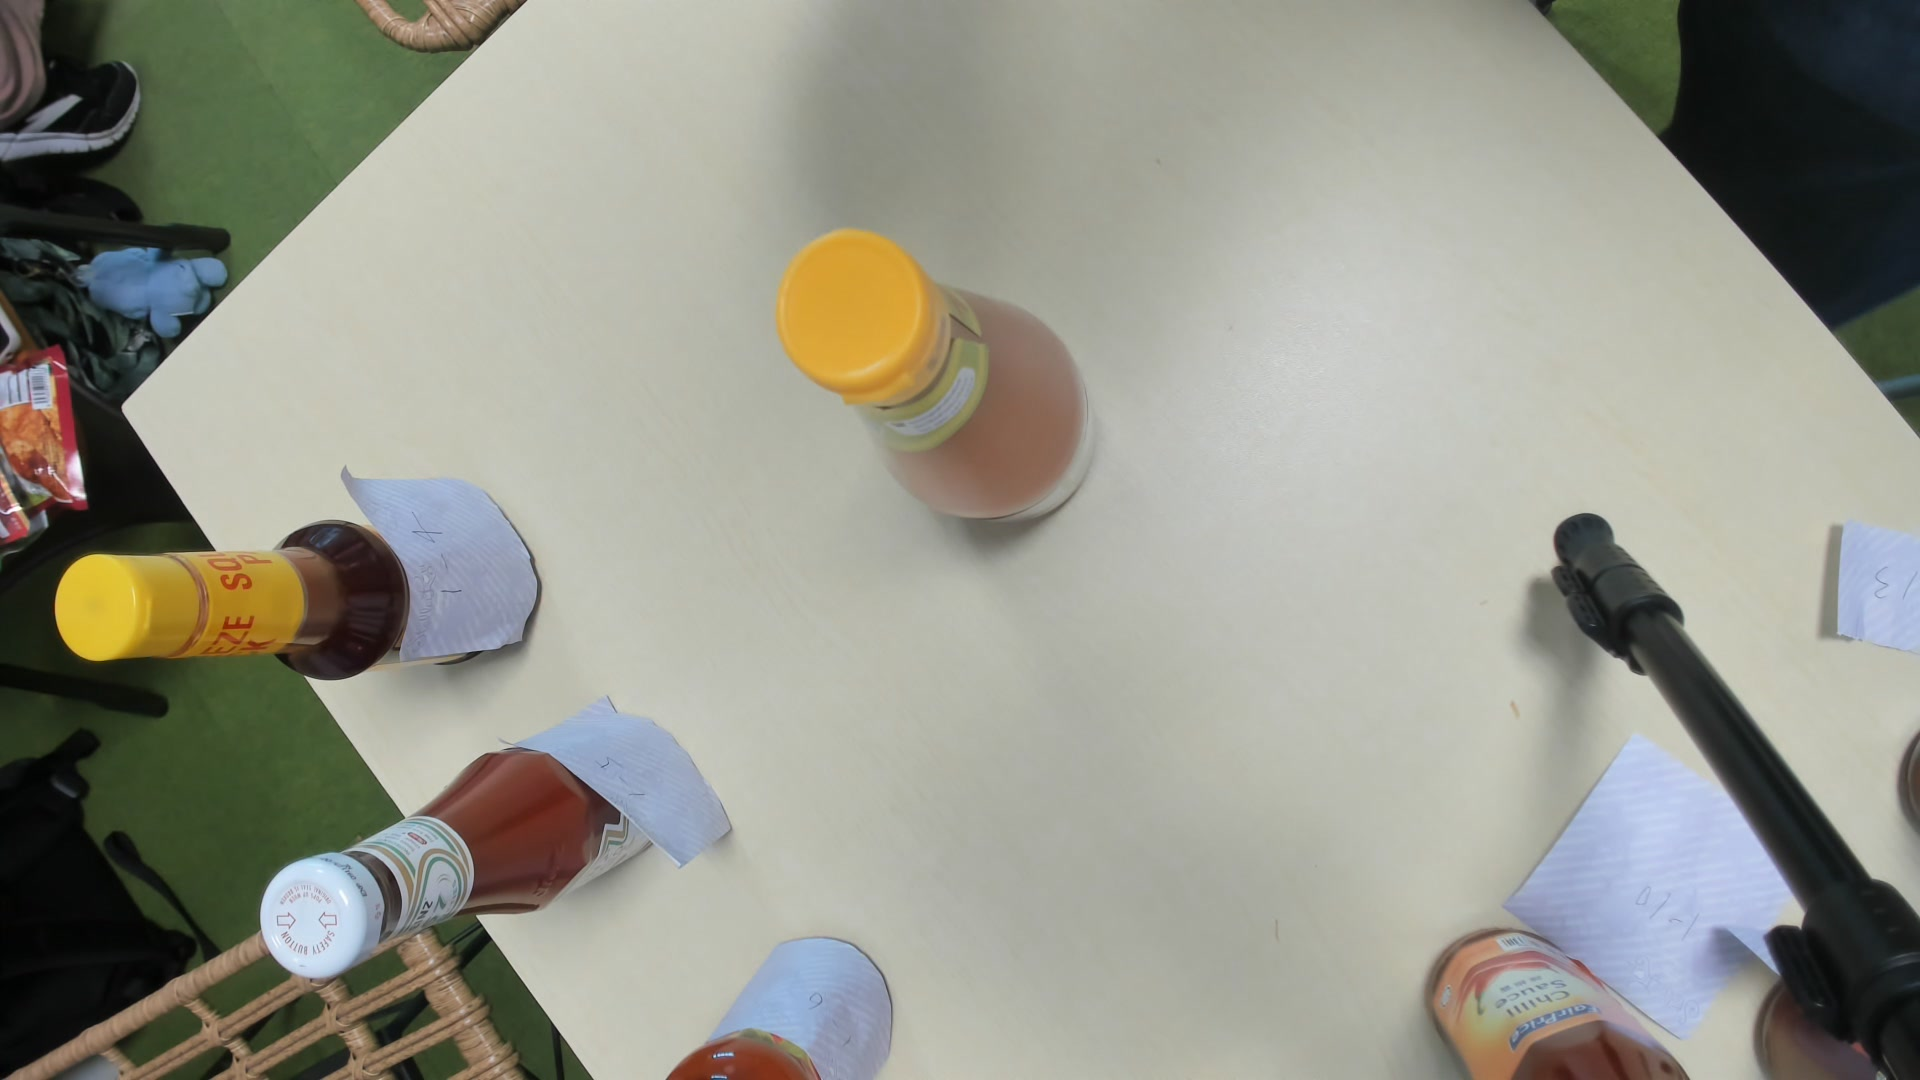KetchupChillSauce_600-699g_Halal_NonHealthy: (766, 228, 1104, 522)
